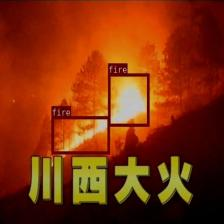fire: (51, 116, 109, 154), (108, 73, 149, 126)
